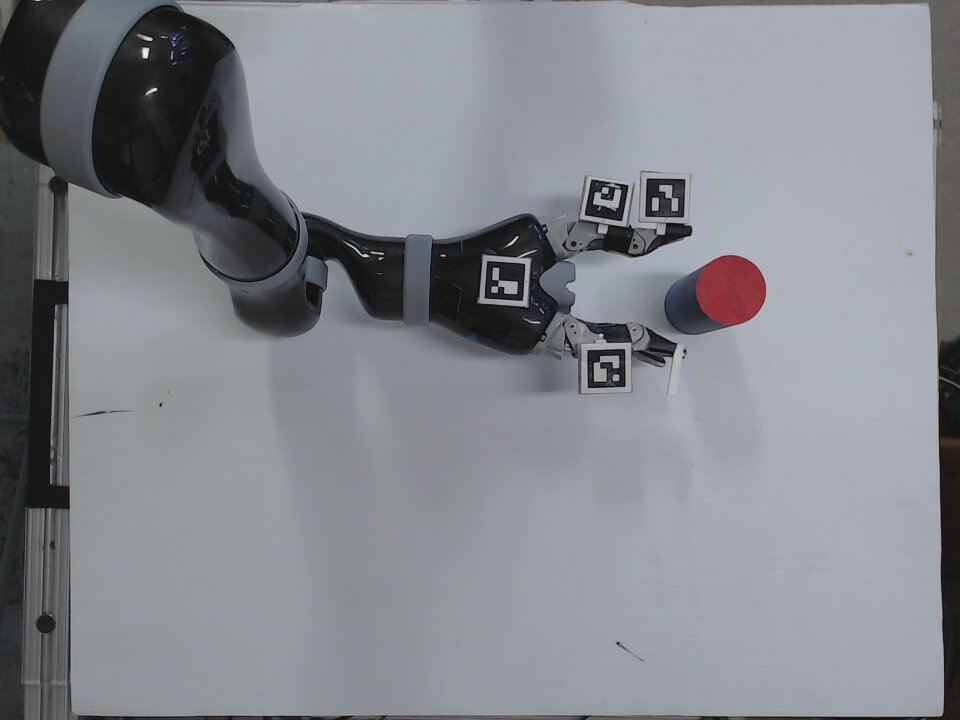cylinder: (661, 252, 771, 337)
